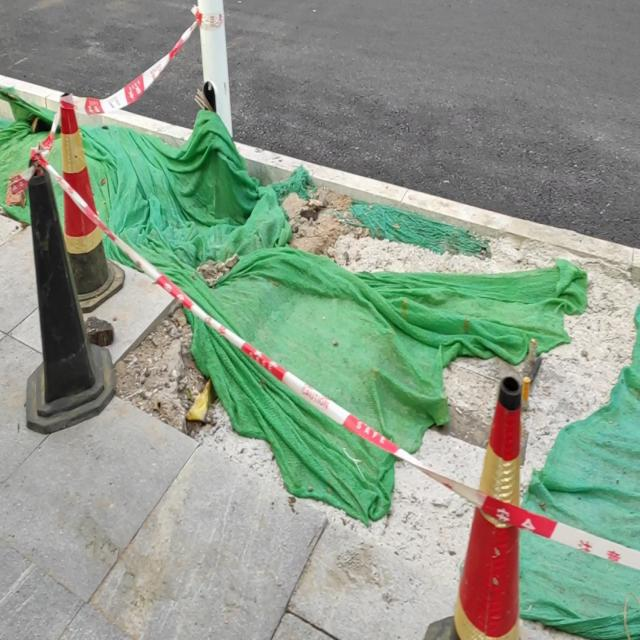reflective_cone: (418, 376, 531, 640), (25, 169, 119, 435), (49, 96, 133, 314)
